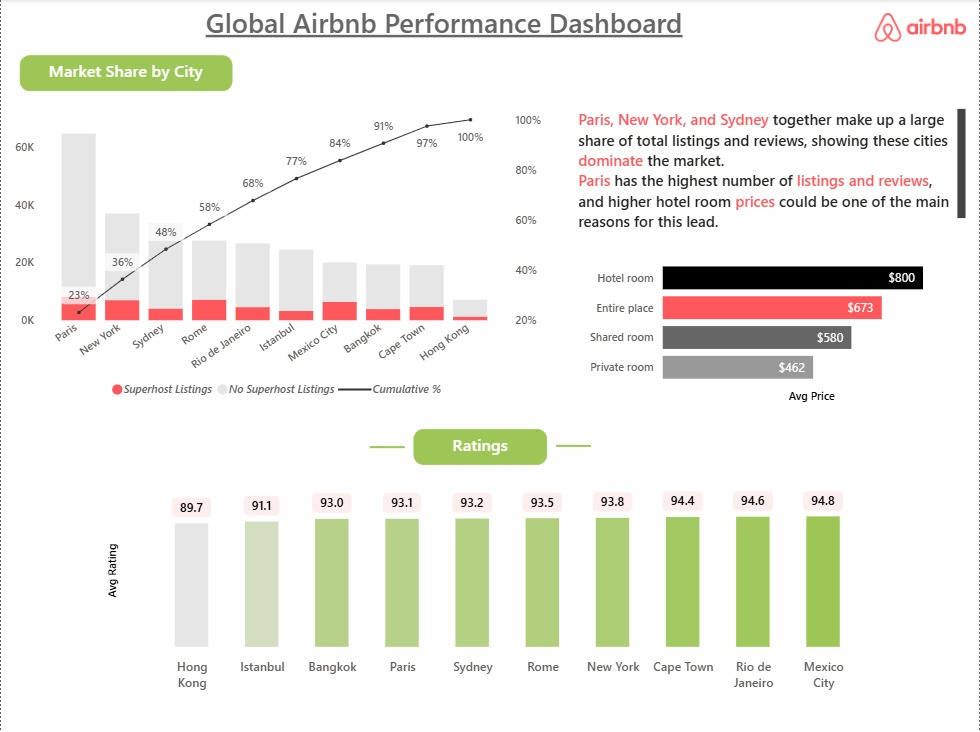

This screenshot's page, from the dashboard's own definition file:
{"tool":"powerbi","page":{"name":"Ratings","canvas":[960,720],"ordinal":1},"visuals":[{"type":"textbox","box":[192.6,0,484.7,55.2],"z":0},{"type":"image","box":[857.7,12.3,89.6,31.9],"z":1000},{"type":"textbox","box":[18.4,55.2,208.6,35.6],"z":2000},{"type":"lineStackedColumnComboChart","fields":{"Category":["Listings.city"],"Y":["Listings.Superhost Listings","Listings.No Superhost Listings"],"Y2":["Listings.Cumulative %"]},"box":[8.6,103.1,527.6,298.2],"z":3000},{"type":"barChart","fields":{"Category":["Listings.room_type"],"Y":["Listings.Avg Price"]},"box":[571.8,238,375.5,163.2],"z":4000},{"type":"textbox","box":[562,103.1,390.2,131.3],"z":5000},{"type":"columnChart","fields":{"Category":["Listings.city"],"Y":["Listings.Avg Rating"]},"box":[100.6,472.4,757.1,214.7],"z":6000},{"type":"textbox","box":[404.9,422.1,131.3,35.6],"z":9000},{"type":"shape","box":[544.8,404.9,34.4,67.5],"z":11000},{"type":"shape","box":[362,406.1,34.4,67.5],"z":12000}]}

Visuals, with their boxes in screenshot pixels (x1, y1, x2, y2), scaled from the page's 960x720 canvas onto the 980x732 screenshot:
textbox: 197/0/691/56
image: 876/13/967/45
textbox: 19/56/232/92
lineStackedColumnComboChart - Listings.city x Listings.Superhost Listings: 9/105/547/408
barChart - Listings.room_type x Listings.Avg Price: 584/242/967/408
textbox: 574/105/972/238
columnChart - Listings.city x Listings.Avg Rating: 103/480/876/699
textbox: 413/429/547/465
shape: 556/412/591/480
shape: 370/413/405/481
